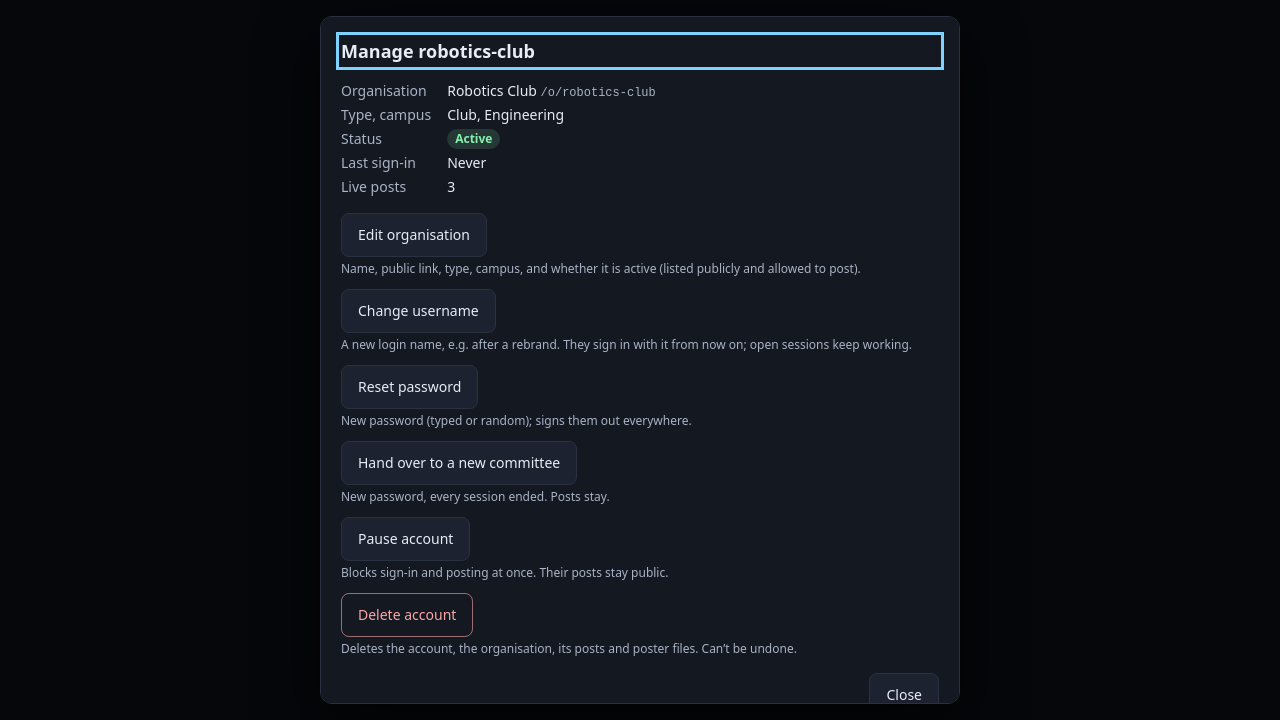
a password the owner types › reset: a weak password is refused in place; a typed one is sent and shown once
Click the button "Reset password". click: (410, 387)
box: 341,365 -> 478,409
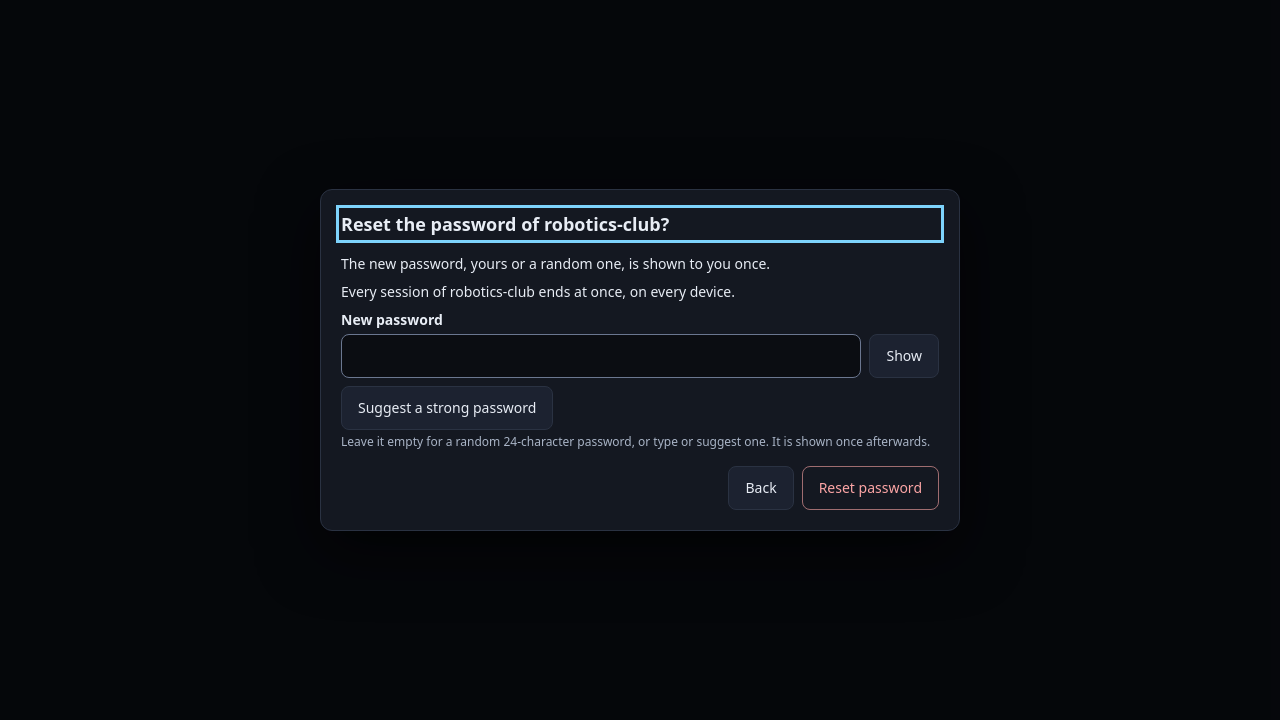
Type "short1A" into the password field labelled "New password". click: (601, 356)
box: 341,334 -> 862,378
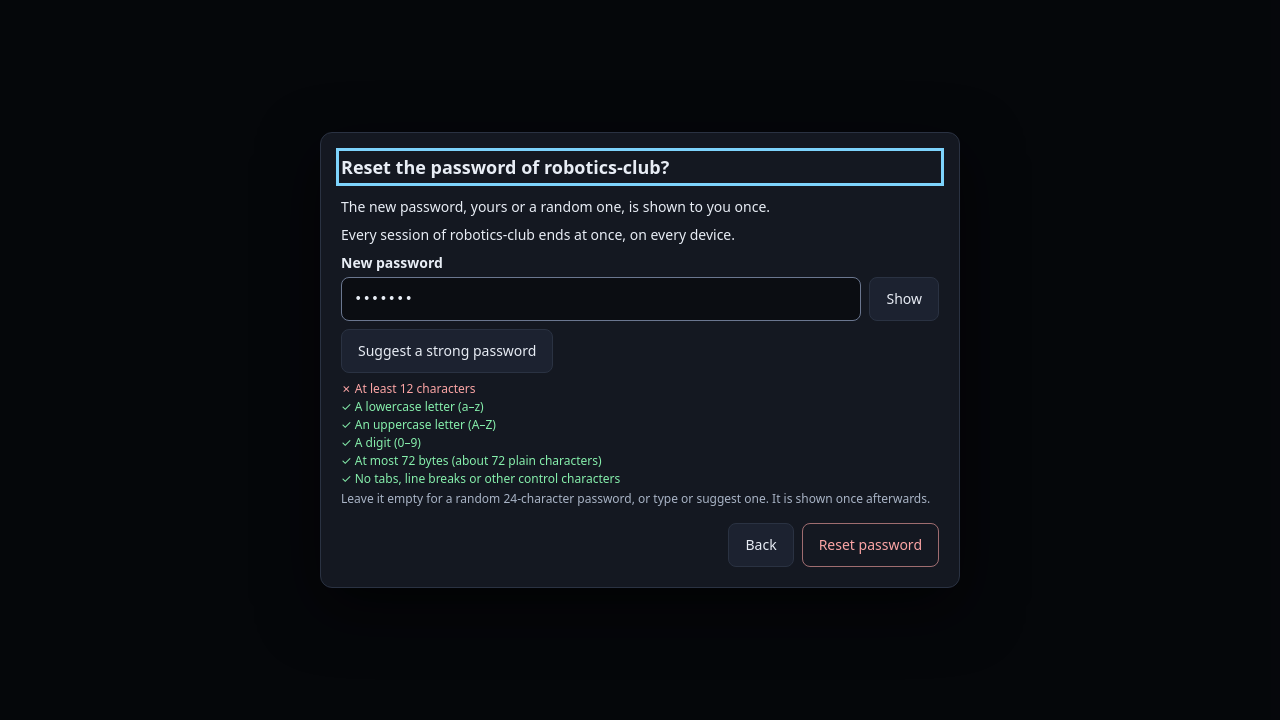
Submit the form, box 341,197 -> 939,567
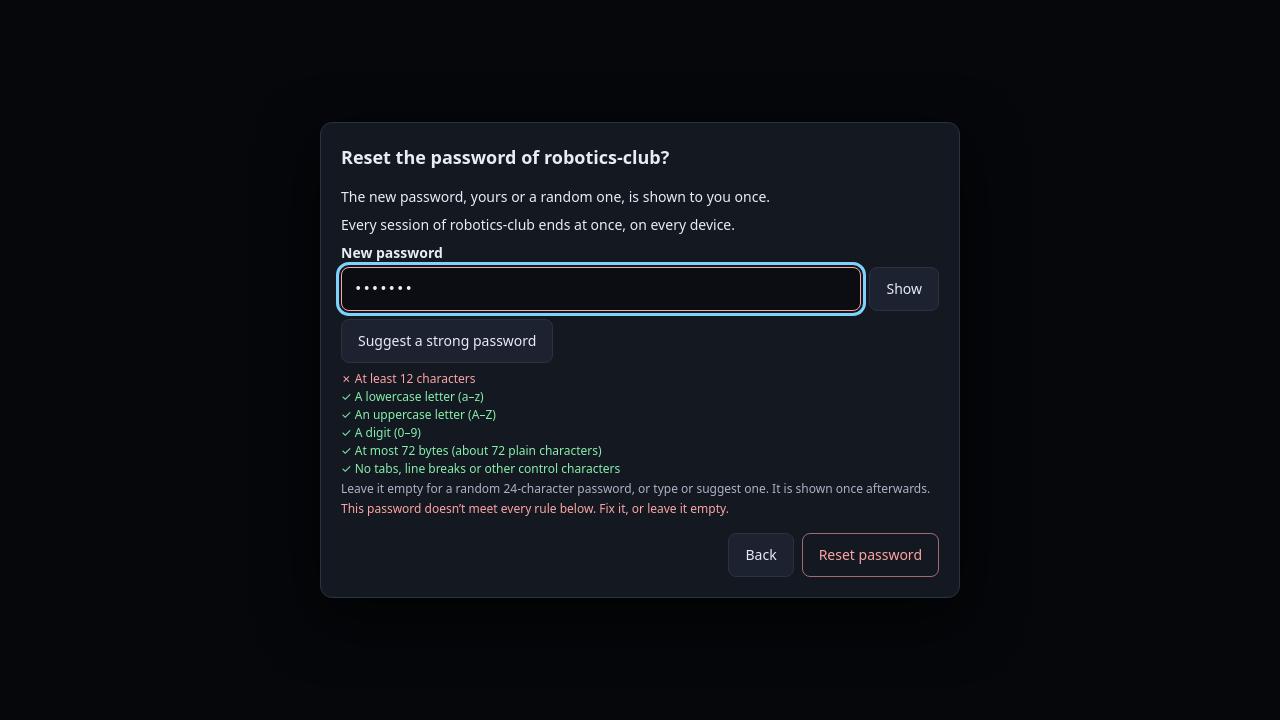
Type "Typed by the Owner 2026" into the password field labelled "New password". click: (601, 289)
box: 341,267 -> 862,311
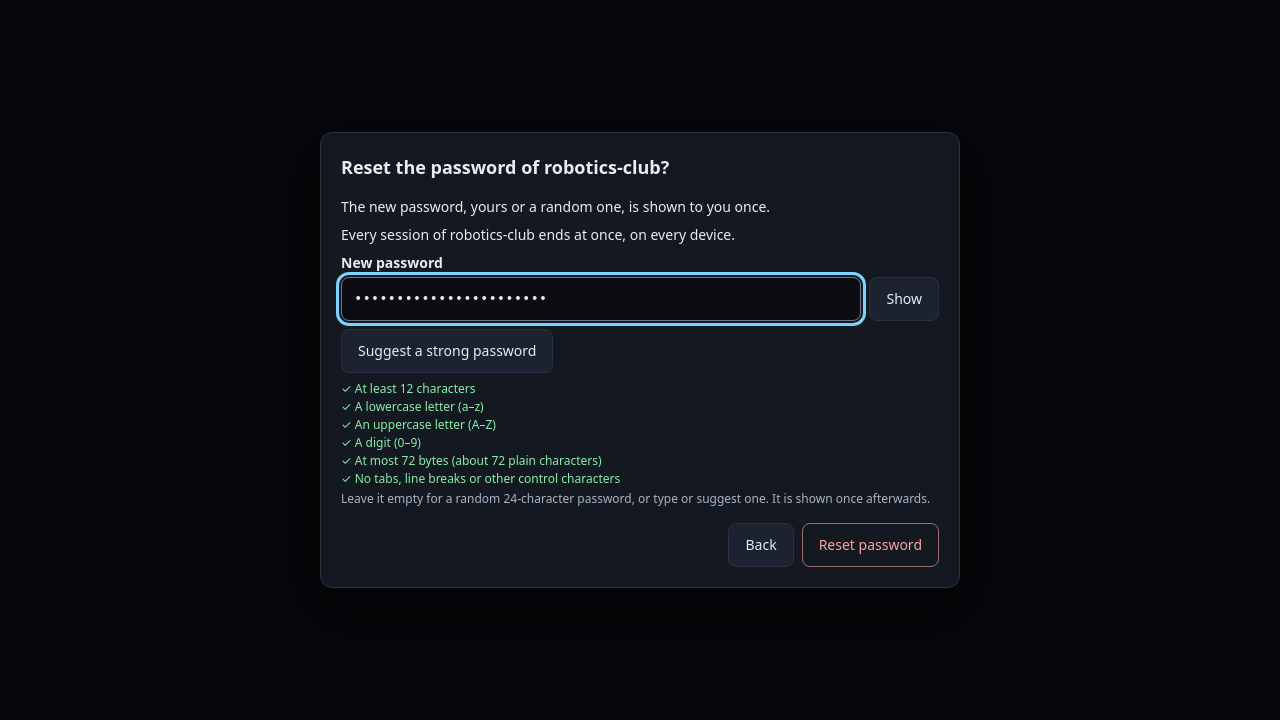
expect the list "Password rules" does not show "not met": met
Click the button "Show". click: (904, 299)
box: 870,277 -> 939,321
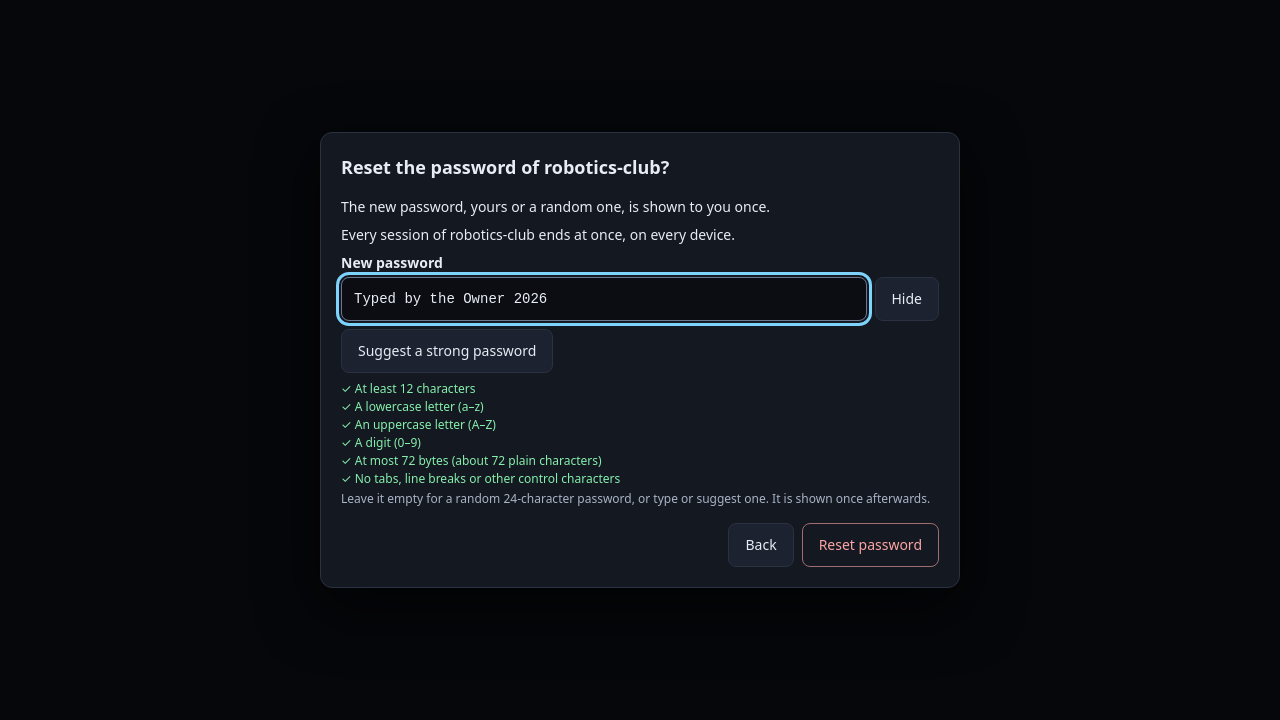
Submit the form, box 341,197 -> 939,567
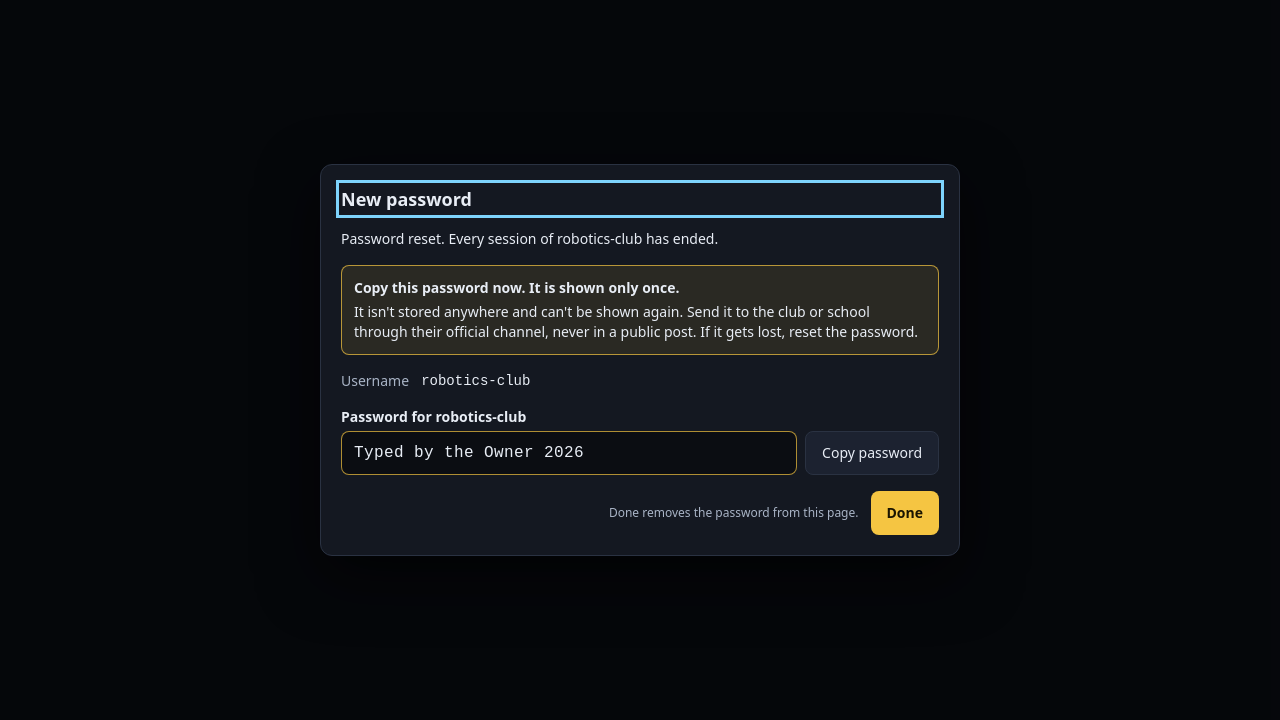
expect the field labelled "Password for robotics-club" holds "Typed by the Owner 2026": met, box 341,431 -> 797,475
